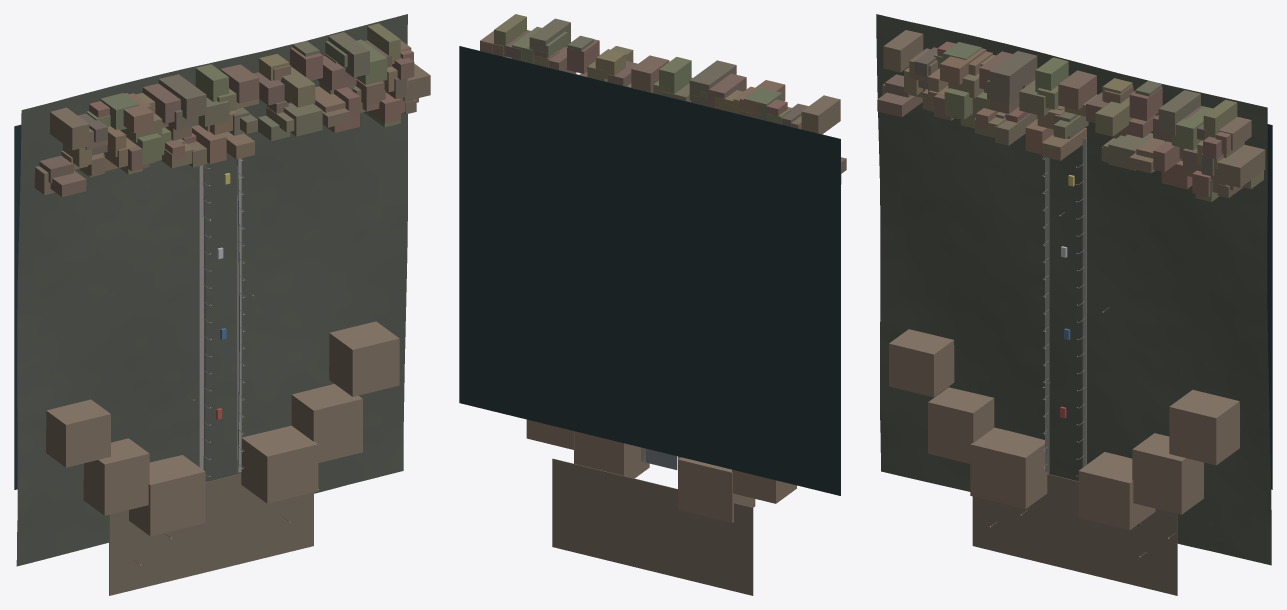
File: gece_isikli_uzun_kopru.glb
The picture shows the model from 3 angles, left to right: view 1: azimuth 30°, elevation 25°; view 2: azimuth 150°, elevation 25°; view 3: azimuth 330°, elevation 25°; orthographic projection. The views are drawn at different scales.
Visible parts, largest first — view 1: Night_terrain, Foreground_intersection, Apartment_1, Apartment_5, Apartment_0, Apartment_3, Apartment_2, Apartment_4, Dark_valley_water, Bridge_sidewalk_-1, Bridge_sidewalk_1, Apartment_75 (+24 smaller); view 2: Dark_valley_water, Foreground_intersection, Apartment_0, Apartment_1, Apartment_2, Apartment_75, Apartment_3, Apartment_31, Apartment_94, Apartment_41, Apartment_83, Apartment_10 (+4 smaller); view 3: Night_terrain, Foreground_intersection, Apartment_0, Apartment_5, Apartment_3, Apartment_1, Apartment_2, Apartment_4, Dark_valley_water, Bridge_sidewalk_1, Bridge_sidewalk_-1, Apartment_11 (+20 smaller).
Part boxes in pixels (left/top/right/bottom): Night_terrain: left=16, top=14, right=407, bottom=566; Foreground_intersection: left=109, top=473, right=313, bottom=595; Apartment_1: left=241, top=425, right=318, bottom=503; Apartment_5: left=329, top=321, right=399, bottom=396; Apartment_0: left=129, top=455, right=205, bottom=536; Apartment_3: left=291, top=384, right=362, bottom=462; Apartment_2: left=83, top=438, right=149, bottom=515; Apartment_4: left=46, top=399, right=110, bottom=467; Dark_valley_water: left=14, top=124, right=21, bottom=489; Bridge_sidewalk_-1: left=199, top=165, right=203, bottom=469; Bridge_sidewalk_1: left=237, top=158, right=241, bottom=472; Apartment_75: left=49, top=107, right=89, bottom=150; Dark_valley_water: left=459, top=46, right=840, bottom=495; Foreground_intersection: left=552, top=458, right=753, bottom=595; Apartment_0: left=678, top=457, right=755, bottom=522; Apartment_1: left=574, top=431, right=649, bottom=478; Apartment_2: left=732, top=469, right=796, bottom=503; Apartment_75: left=801, top=95, right=840, bottom=134; Apartment_3: left=526, top=419, right=574, bottom=450; Apartment_31: left=689, top=60, right=736, bottom=100; Apartment_94: left=659, top=57, right=691, bottom=93; Apartment_41: left=631, top=55, right=669, bottom=92; Apartment_83: left=529, top=18, right=570, bottom=52; Apartment_10: left=494, top=14, right=526, bottom=54; Night_terrain: left=876, top=14, right=1271, bottom=565; Foreground_intersection: left=972, top=474, right=1177, bottom=595; Apartment_0: left=970, top=427, right=1048, bottom=509; Apartment_5: left=1169, top=389, right=1239, bottom=465; Apartment_3: left=1132, top=433, right=1203, bottom=514; Apartment_1: left=1078, top=452, right=1155, bottom=530; Apartment_2: left=928, top=387, right=994, bottom=463; Apartment_4: left=889, top=329, right=954, bottom=397; Dark_valley_water: left=1267, top=124, right=1272, bottom=489; Bridge_sidewalk_1: left=1082, top=137, right=1086, bottom=467; Bridge_sidewalk_-1: left=1045, top=157, right=1049, bottom=472; Apartment_11: left=1214, top=145, right=1265, bottom=187.
Bounding box in the file's own units: 190 × 239 × 30.66.
